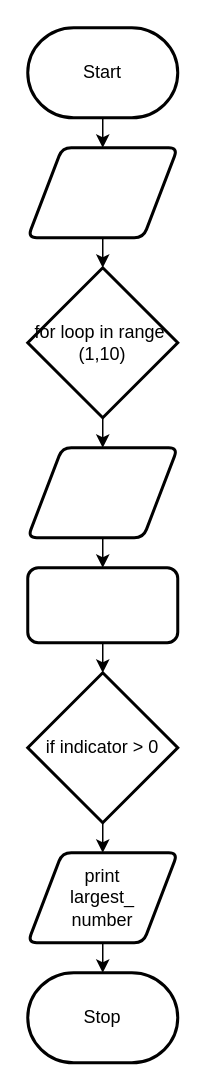
The diagram is 204 pixels wide and 1089 high, and some of its shapes have lost their labels. The shapes that lost their labels are listed below. From the top down, each one's centre as x and y in pixels, then its label:
(x=102, y=192): import random
(x=102, y=492): print random
(x=102, y=605): indicator = number - largest_number
